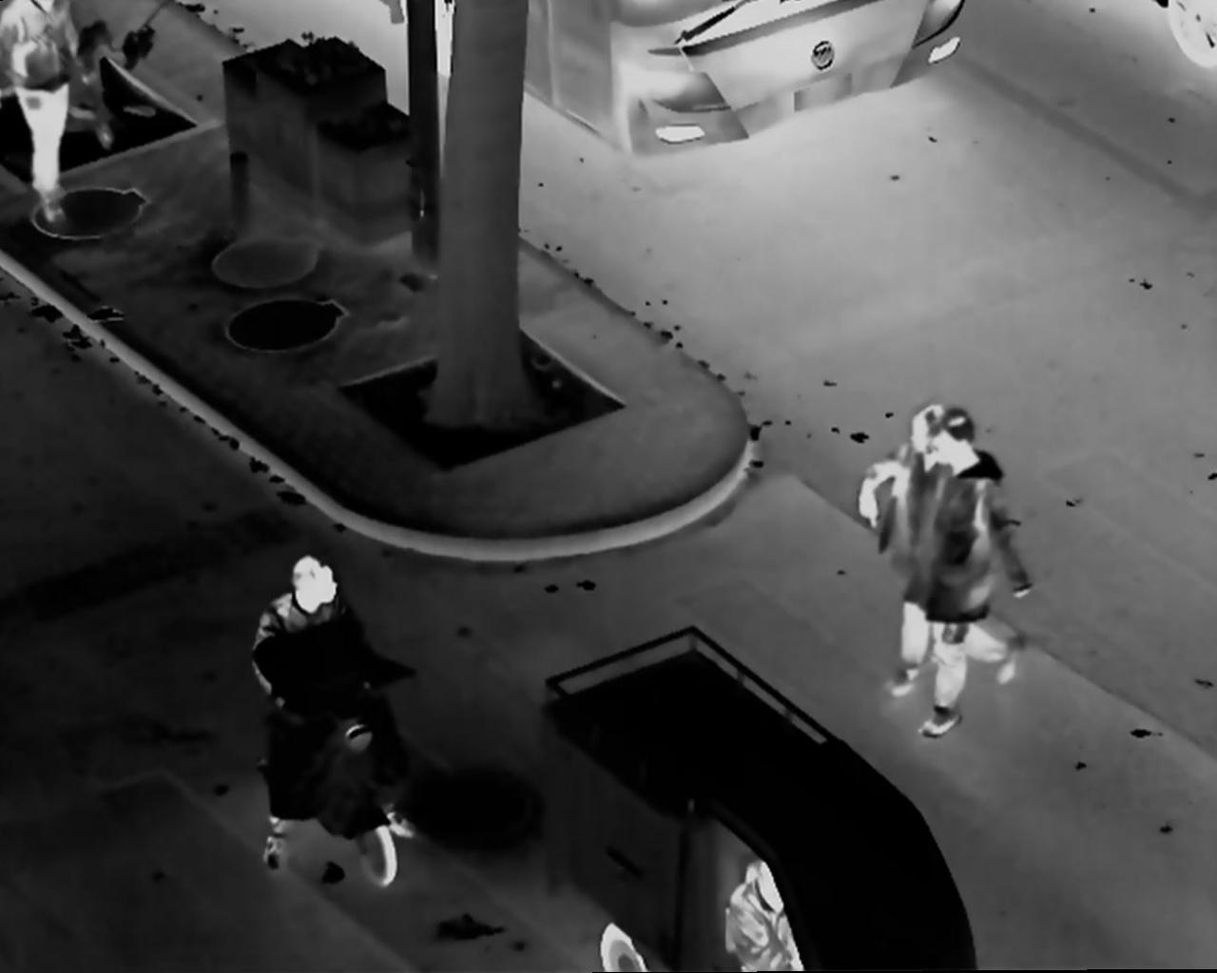person: (233, 537, 426, 869), (860, 403, 1023, 690), (922, 404, 1036, 745), (725, 857, 804, 973)
